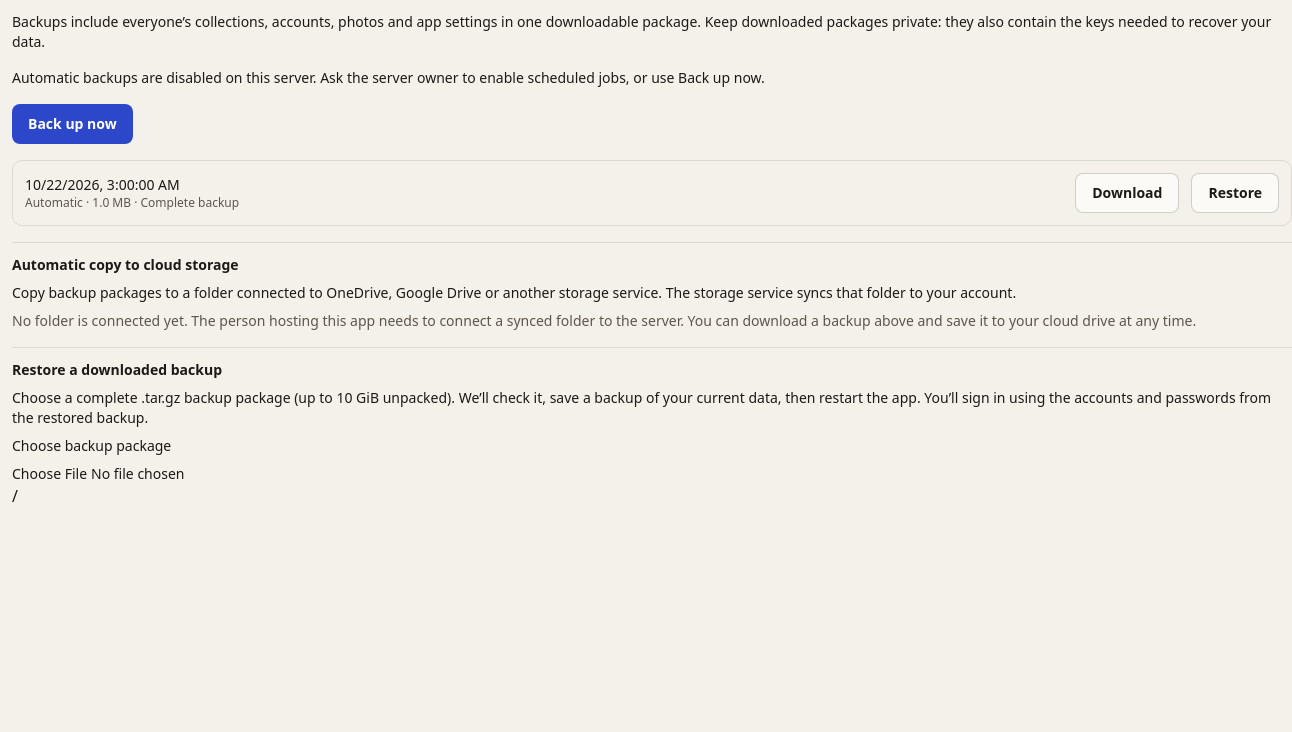
shows failures instead of reporting success and warns when scheduled backups are disabled
Expected: the text "Automatic backups are disabled" is shown, [12, 68, 765, 87]
Click the button "Back up now". click: (72, 124)
box: [12, 104, 133, 144]
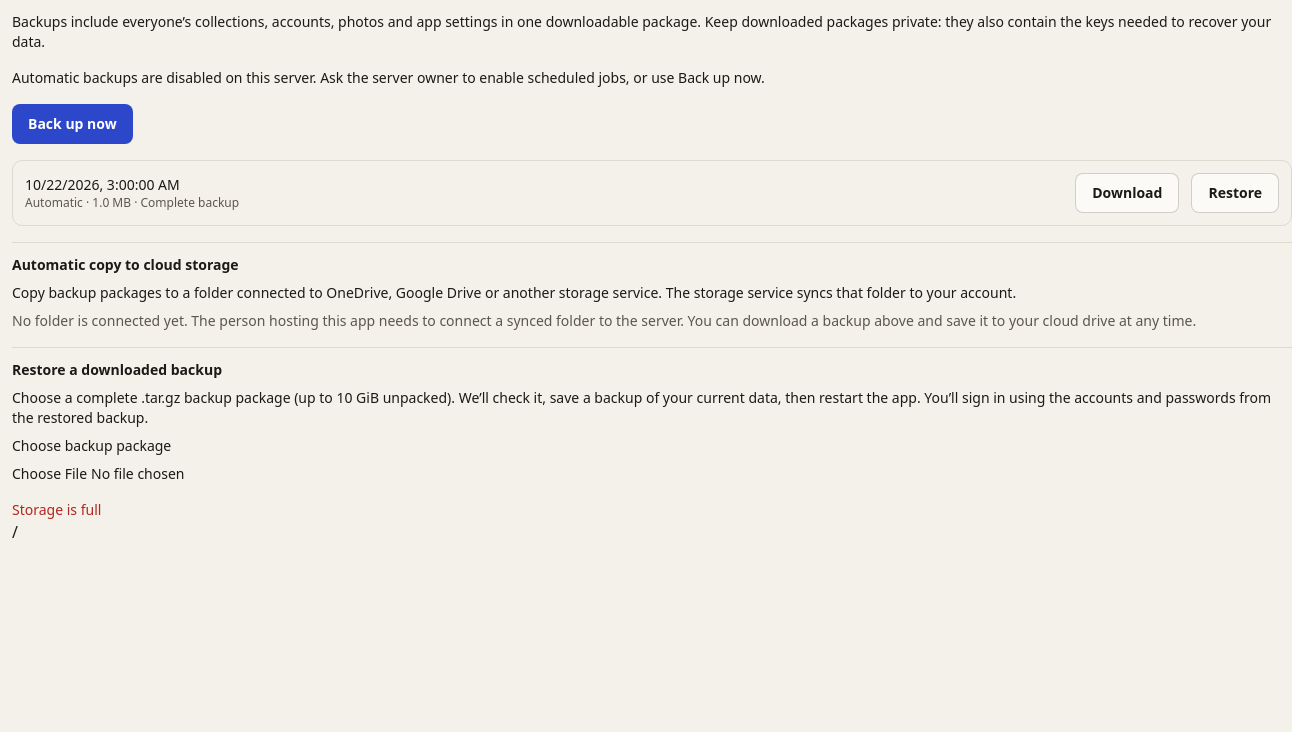
Now the message "Storage is full" is shown, box [12, 500, 101, 519]
